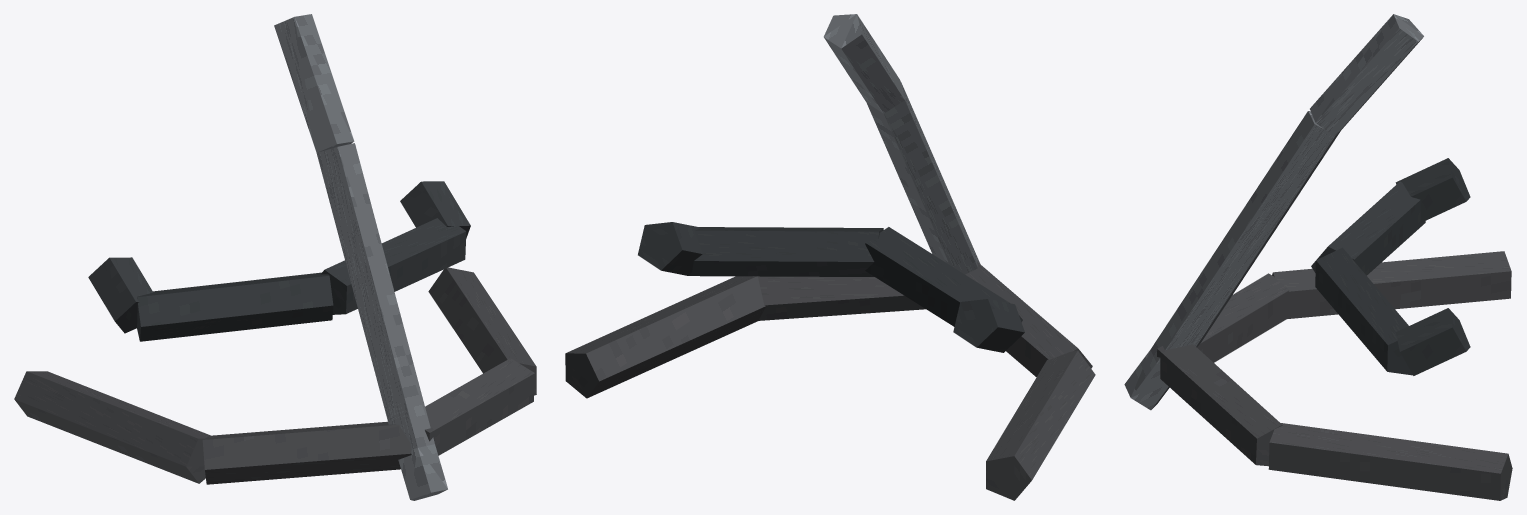
The model's file is guitar_stand.glb.
3 views of the same model, side by side, from view 1: azimuth 30°, elevation 25°; view 2: azimuth 150°, elevation 25°; view 3: azimuth 270°, elevation 25° (orthographic). The views are drawn at different scales.
Parts seen in each view (by area): view 1: block_support foot 0 (×2), block_support foot 1 (×2), block_padded guitar rest 0 (×2), block_folding upright 1, block_folding upright 2, block_padded guitar rest 1 (×2), block_folding upright 0; view 2: block_support foot 1 (×2), block_padded guitar rest 0 (×2), block_support foot 0 (×2), block_folding upright 1, block_padded guitar rest 1 (×2), block_folding upright 2; view 3: block_support foot 1 (×2), block_support foot 0 (×2), block_folding upright 1, block_padded guitar rest 0 (×2), block_padded guitar rest 1 (×2), block_folding upright 2, block_folding upright 0.
Part boxes in pixels (box(x1,y1,x2,y2)): block_support foot 0 (×2): box(202, 358, 534, 484); block_support foot 1 (×2): box(14, 267, 536, 483); block_padded guitar rest 0 (×2): box(137, 218, 466, 341); block_folding upright 1: box(316, 143, 434, 449); block_folding upright 2: box(274, 14, 354, 152); block_padded guitar rest 1 (×2): box(88, 181, 470, 333); block_folding upright 0: box(398, 444, 447, 500); block_support foot 1 (×2): box(565, 276, 1095, 500); block_padded guitar rest 0 (×2): box(688, 227, 1022, 326); block_support foot 0 (×2): box(752, 261, 1092, 376); block_folding upright 1: box(867, 81, 980, 274); block_padded guitar rest 1 (×2): box(638, 222, 1024, 352); block_folding upright 2: box(823, 14, 904, 113); block_support foot 1 (×2): box(1268, 251, 1512, 500); block_support foot 0 (×2): box(1157, 273, 1289, 466); block_folding upright 1: box(1150, 111, 1340, 364); block_padded guitar rest 0 (×2): box(1311, 181, 1425, 375); block_padded guitar rest 1 (×2): box(1395, 158, 1470, 375); block_folding upright 2: box(1310, 14, 1423, 136); block_folding upright 0: box(1124, 350, 1169, 410).
Bounding box in the file's own units: 0.1764 × 0.1451 × 0.1307.
Materials: 1 (1 with a texture image).
